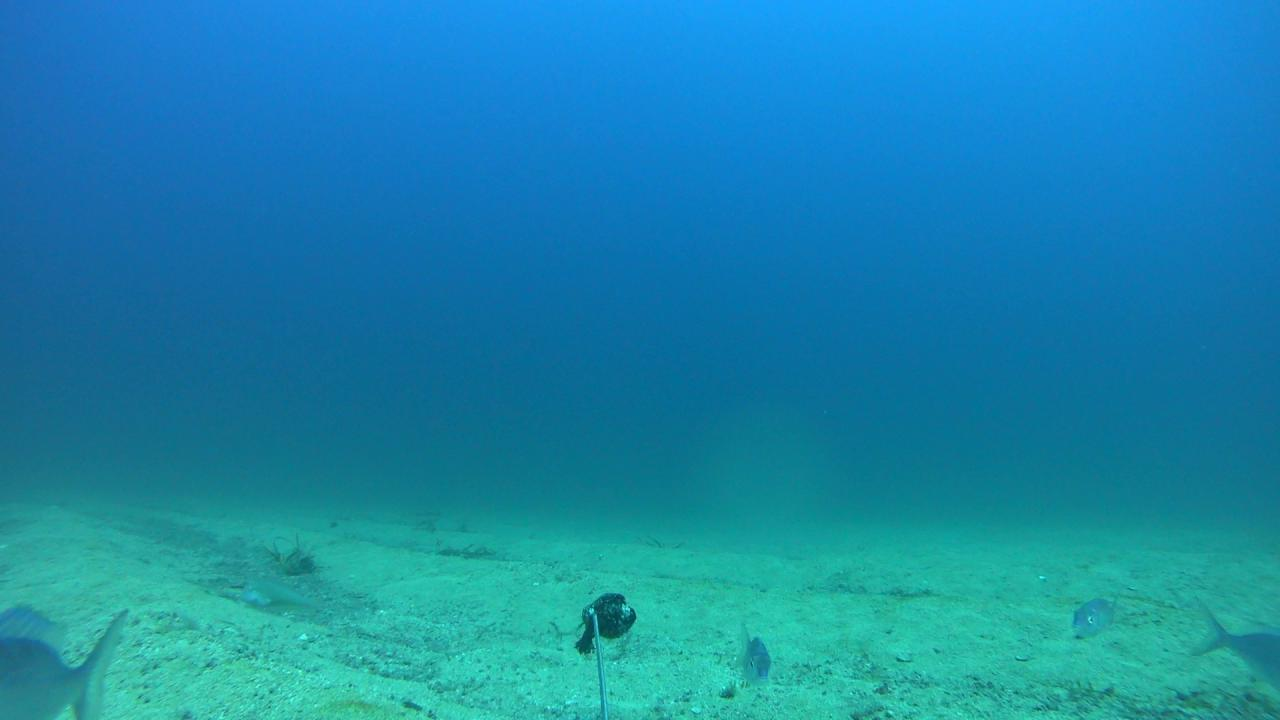pagellus: (737, 621, 772, 686), (1070, 587, 1118, 634)
